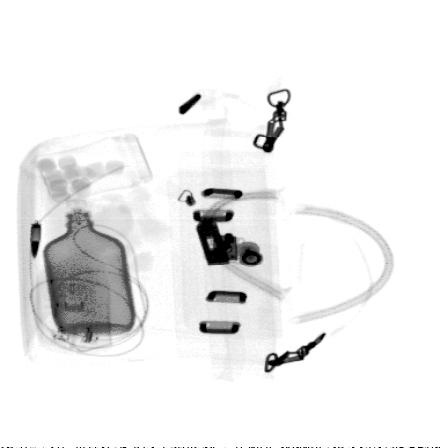Bullet: (30, 224, 42, 259)
